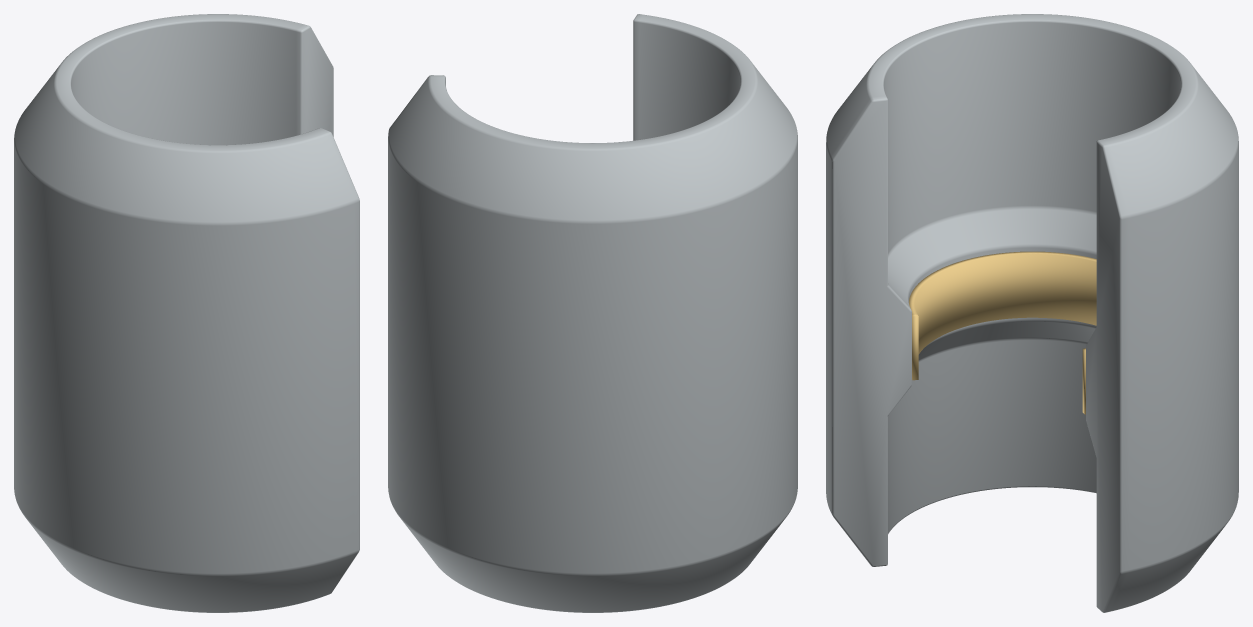
Rendered from landing-nipple.glb.
The picture shows the model from 3 angles, left to right: view 1: azimuth 30°, elevation 25°; view 2: azimuth 150°, elevation 25°; view 3: azimuth 270°, elevation 25°; orthographic projection.
Parts seen in each view (by area): view 1: Nipple body; view 2: Nipple body; view 3: Nipple body, Seal bore.
Part boxes in pixels (<box>): Nipple body: <box>14,14,359,612</box>; Nipple body: <box>388,14,797,612</box>; Nipple body: <box>826,14,1238,612</box>; Seal bore: <box>909,251,1096,414</box>.
Size of the model in its own units: 1.9 by 2.5 by 2.
